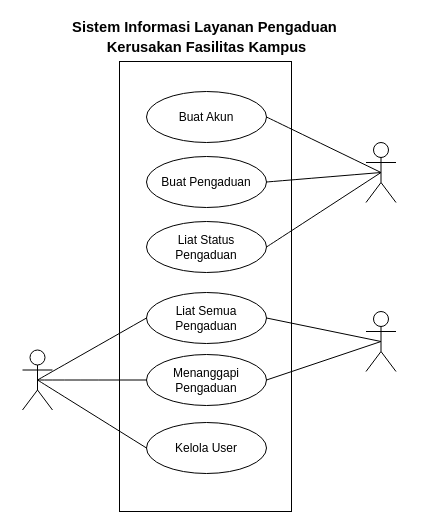
Some shapes in this 428 by 529 pixel diagram are drawn without their labels. Here are the shapes that lost their labels. From the top down, the box of each, then its label:
(365, 142, 396, 202): Mahasiswa
(365, 310, 396, 372): Petugas
(22, 349, 52, 410): Admin
